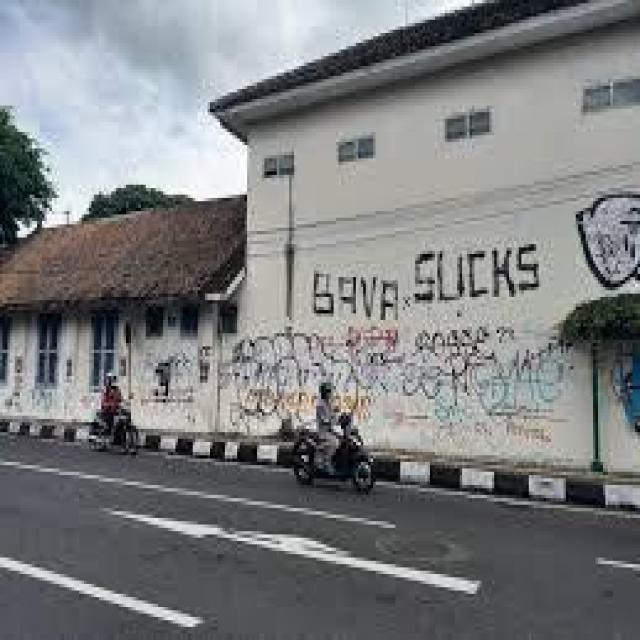nonspitting: (402, 323, 566, 444), (230, 326, 398, 421), (410, 244, 540, 304), (576, 191, 640, 279), (311, 270, 401, 323)
